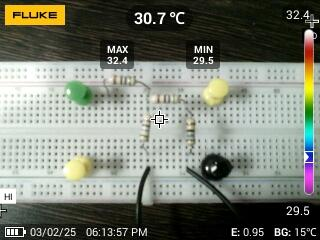resistor: (182, 115, 199, 151), (147, 92, 183, 106), (139, 112, 152, 150), (104, 73, 140, 86)
